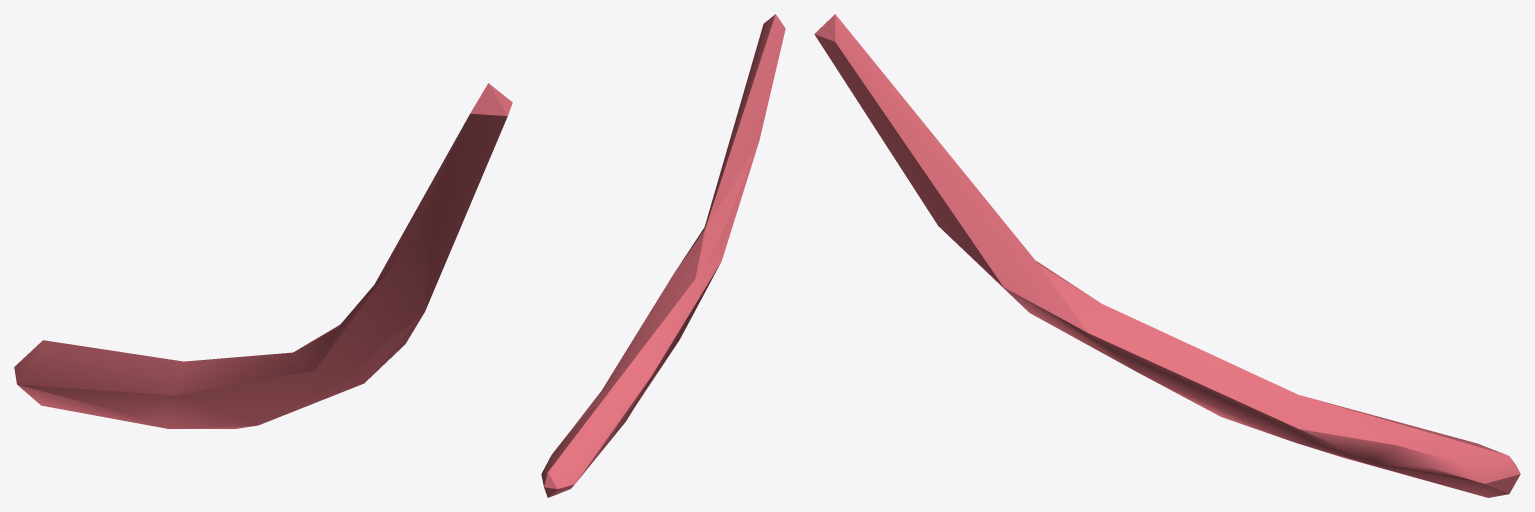
The model's file is fma51307_fj4681.glb.
3 views of the same model, side by side, from view 1: azimuth 30°, elevation 25°; view 2: azimuth 150°, elevation 25°; view 3: azimuth 270°, elevation 25° (orthographic). The views are drawn at different scales.
Parts seen in each view (by area): view 1: FMA51307_FJ4681; view 2: FMA51307_FJ4681; view 3: FMA51307_FJ4681.
Part boxes in pixels (x1,y1,x2,y2): FMA51307_FJ4681: (14, 83, 512, 428); FMA51307_FJ4681: (541, 14, 785, 497); FMA51307_FJ4681: (814, 14, 1520, 497).
Bounding box in the file's own units: 0.000603 × 0.00505 × 0.00671.
